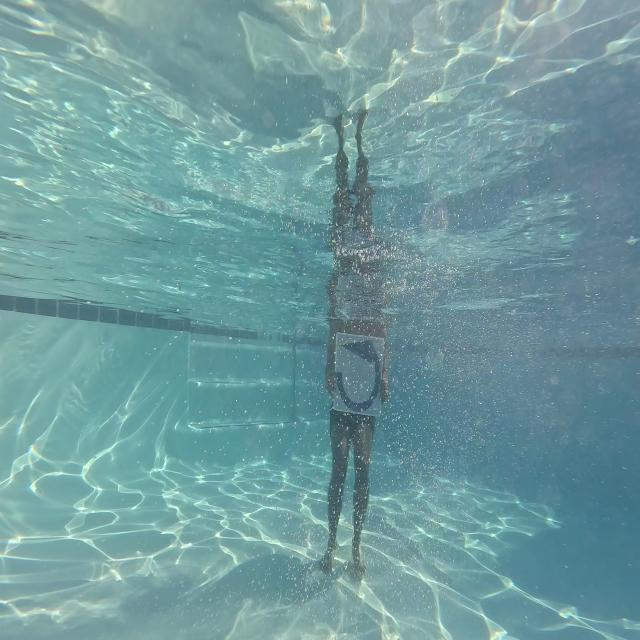blue_side: (334, 329, 383, 419)
